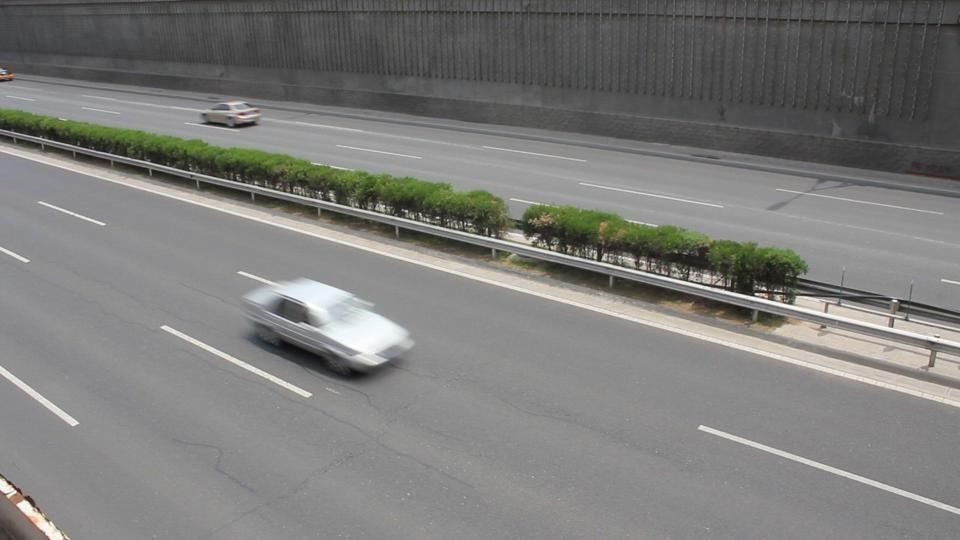car: (239, 276, 415, 377), (201, 98, 264, 128), (0, 65, 15, 81)
